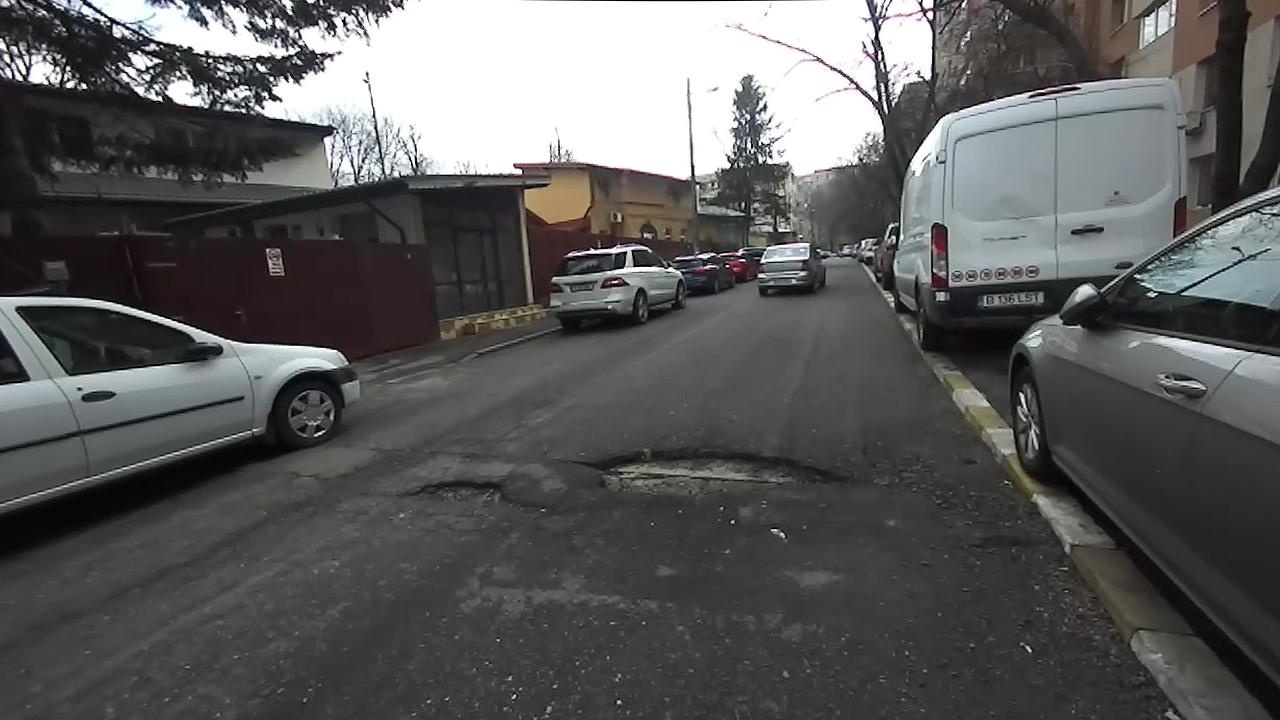pothole: (582, 439, 862, 501), (400, 473, 536, 511)
